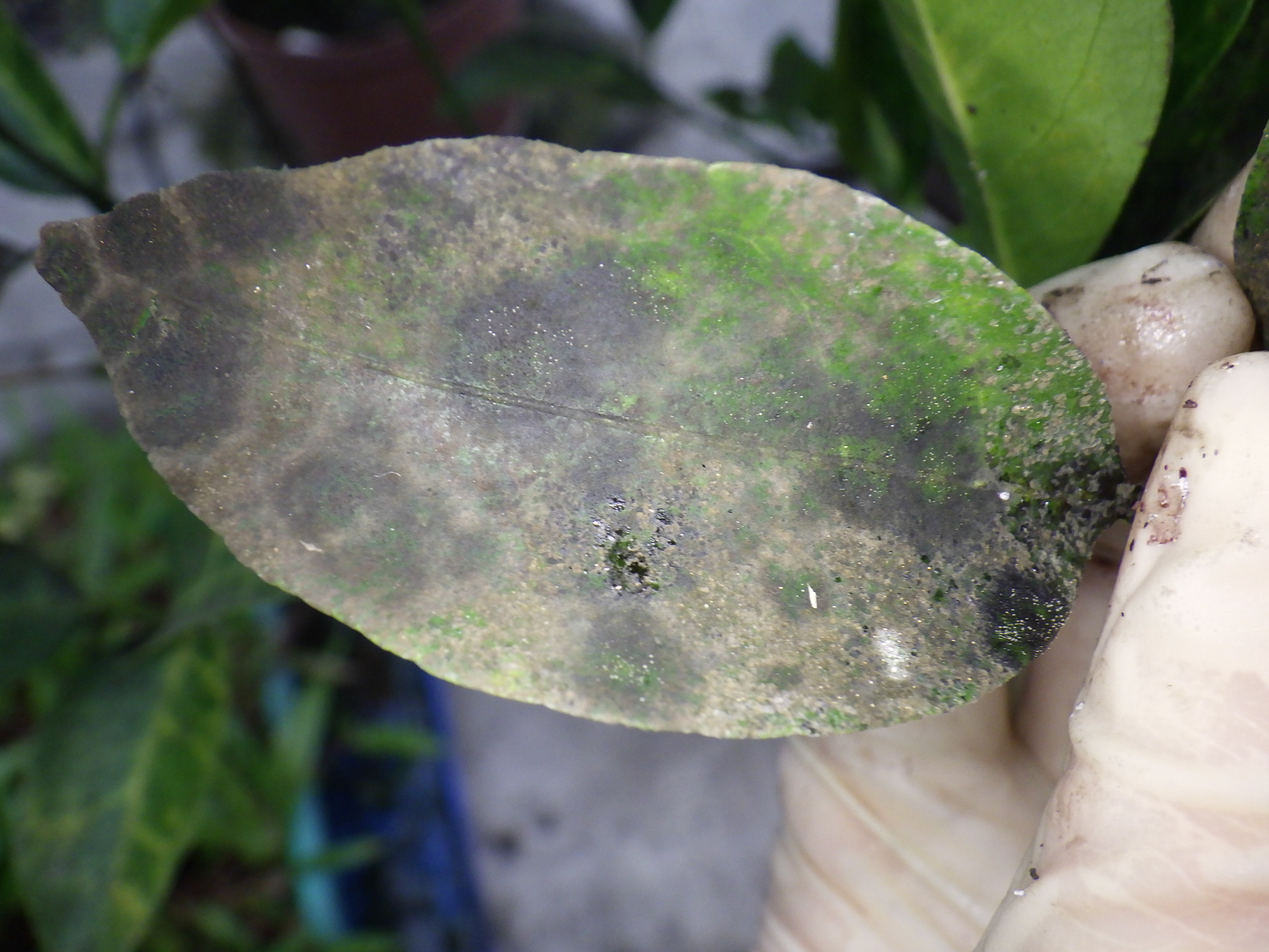Sooty_Mold: (38, 139, 1131, 736)
